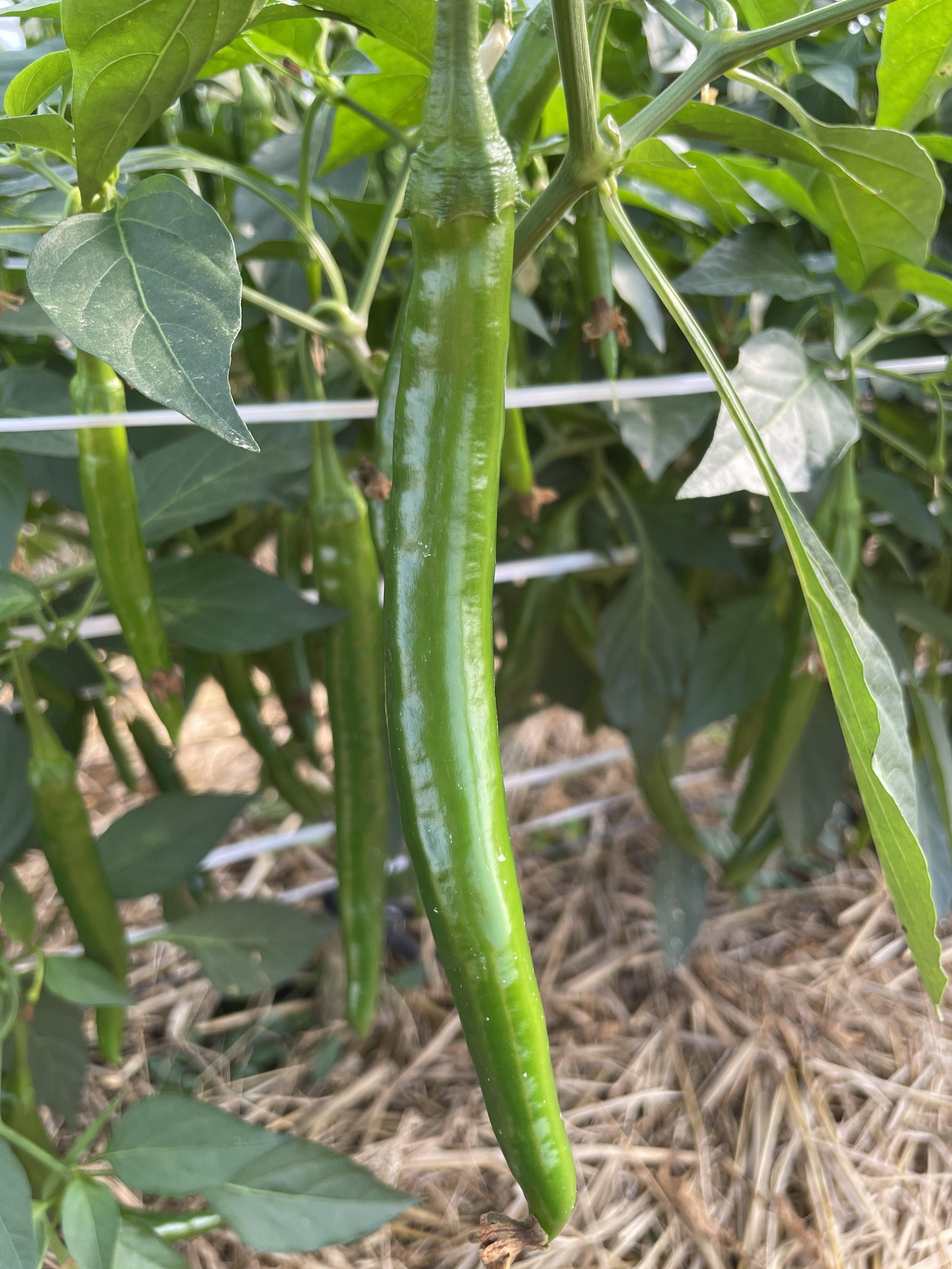Buah Cabai Sehat: (372, 124, 581, 1243)
Daun Cabai Sehat: (16, 165, 268, 463)
